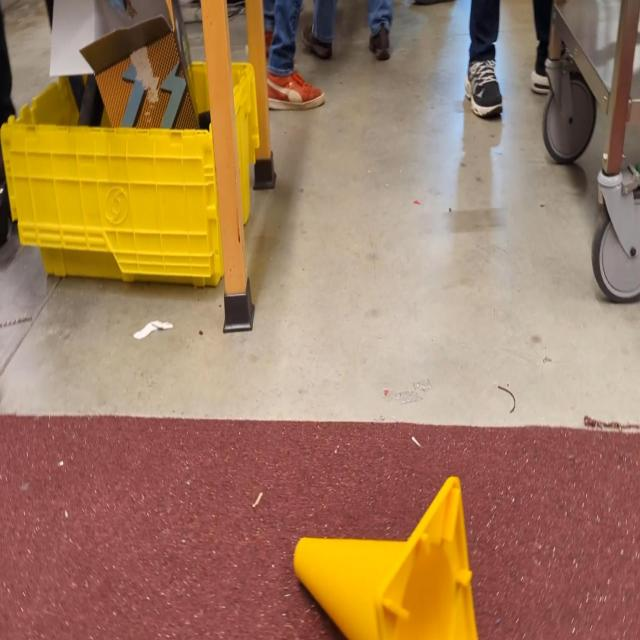frc_cone: (292, 477, 478, 639)
